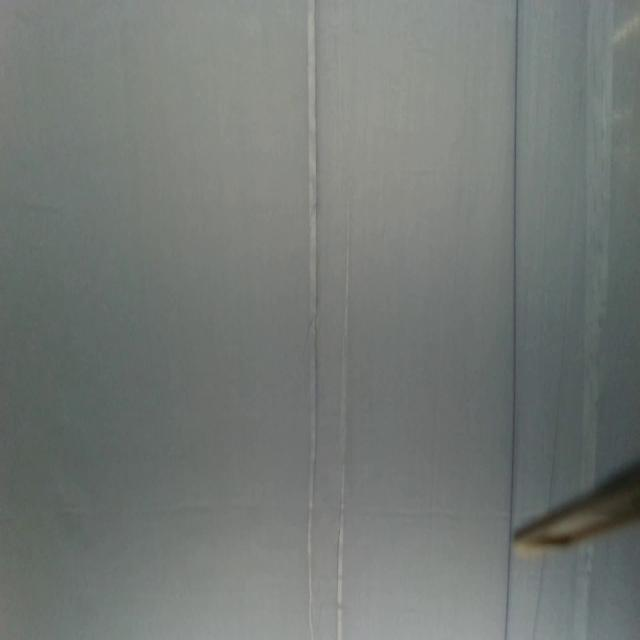crease: (501, 0, 521, 639), (304, 0, 319, 640), (334, 196, 354, 639), (546, 393, 562, 509), (532, 558, 547, 640)
